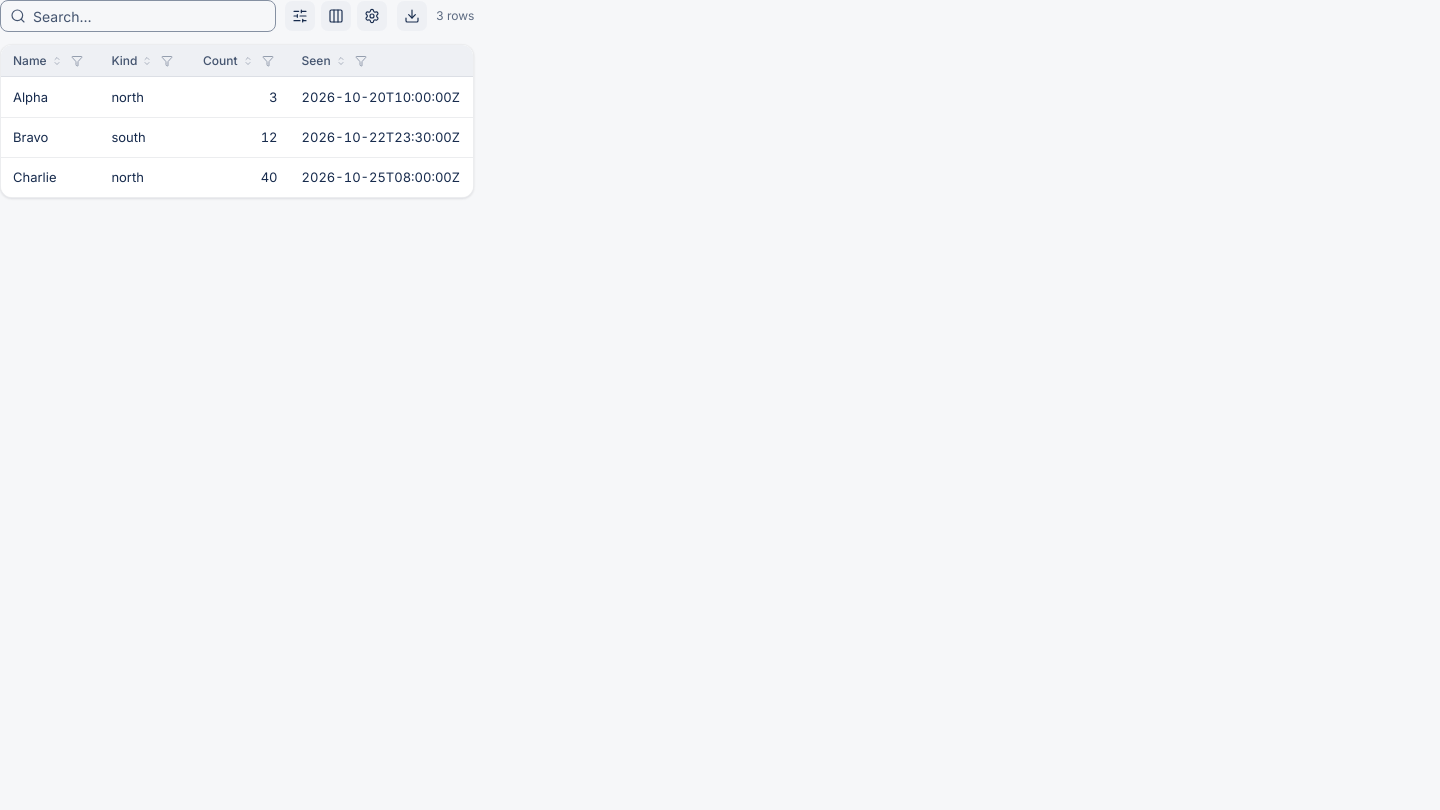
Test: the saved view: columns, order, sort and filters, per table › covers every field, shows the default set, and offers the rest in the Columns menu
Click the button named "Columns" at (336, 16), box [320,0,352,32]
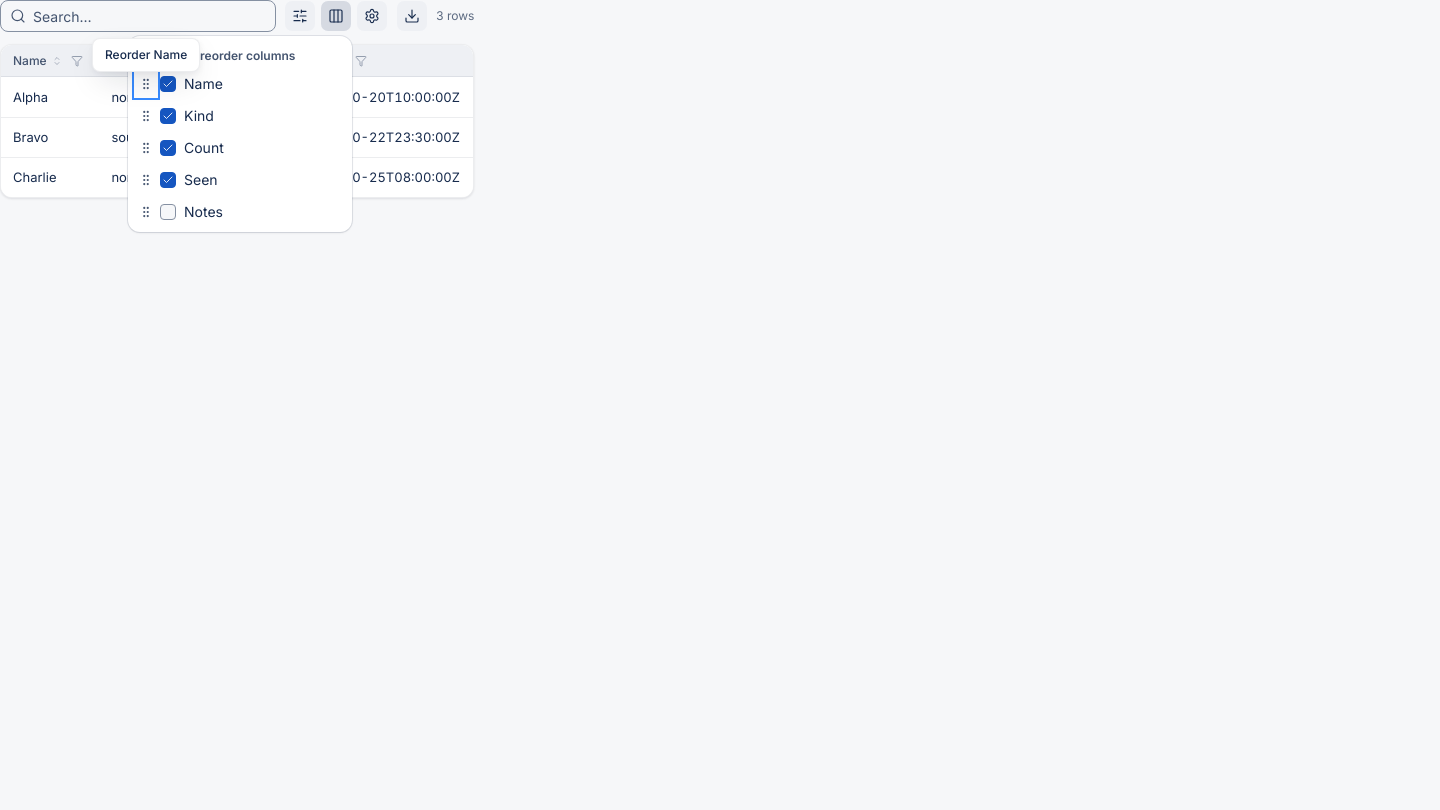
Expected: the checkbox named "Notes" next to "Notes" is shown, [160,204,176,220]
